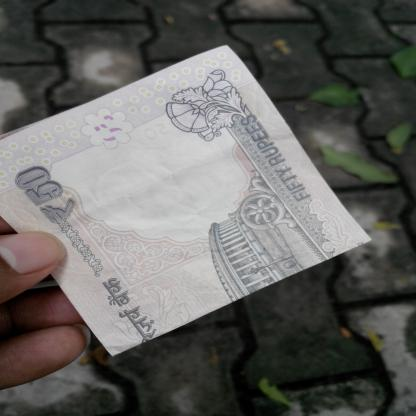Old50Back: (0, 44, 373, 358)
